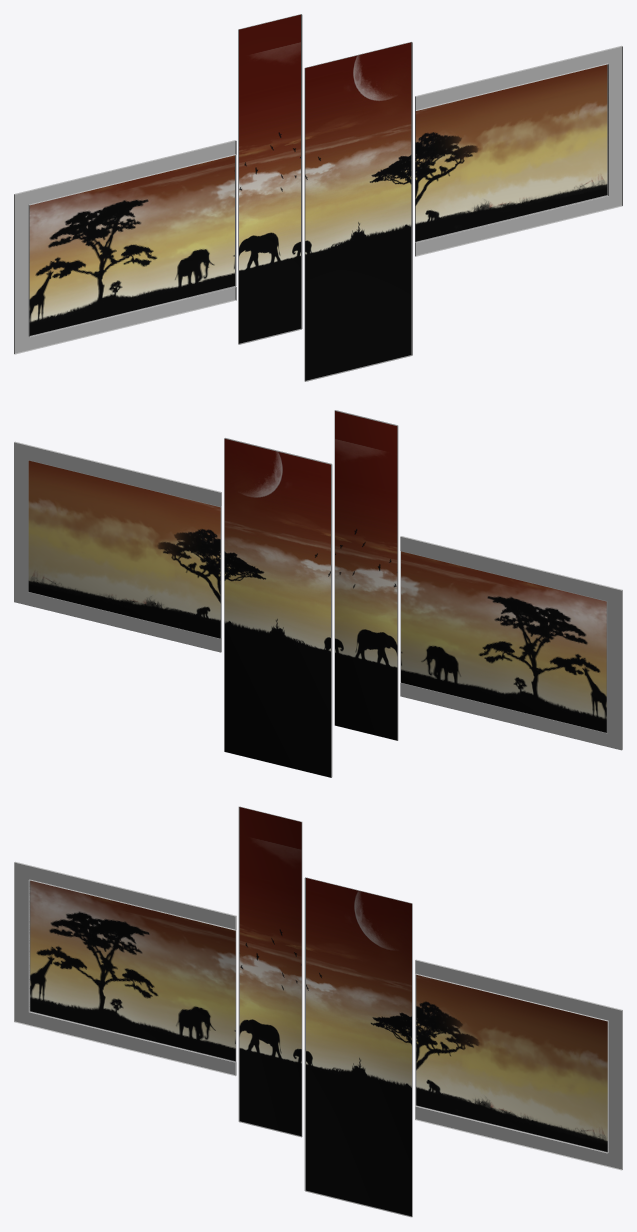
Rendered from picture.FBX.
The picture shows the model from 3 angles, top to bottom: view 1: azimuth 30°, elevation 25°; view 2: azimuth 150°, elevation 25°; view 3: azimuth 330°, elevation 25°; orthographic projection.
Visible parts, largest first — view 1: Object023, Plane417; view 2: Object023, Plane417; view 3: Object023, Plane417.
Part boxes in pixels (left/top/right/bottom): Object023: left=29, top=14, right=608, bottom=381; Plane417: left=14, top=45, right=622, bottom=354; Object023: left=28, top=410, right=607, bottom=777; Plane417: left=14, top=441, right=622, bottom=750; Object023: left=29, top=806, right=607, bottom=1217; Plane417: left=14, top=861, right=622, bottom=1170.
Size of the model in its own units: 176 by 102 by 0.5453.
